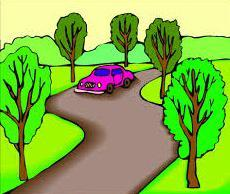car: (73, 59, 137, 97)
